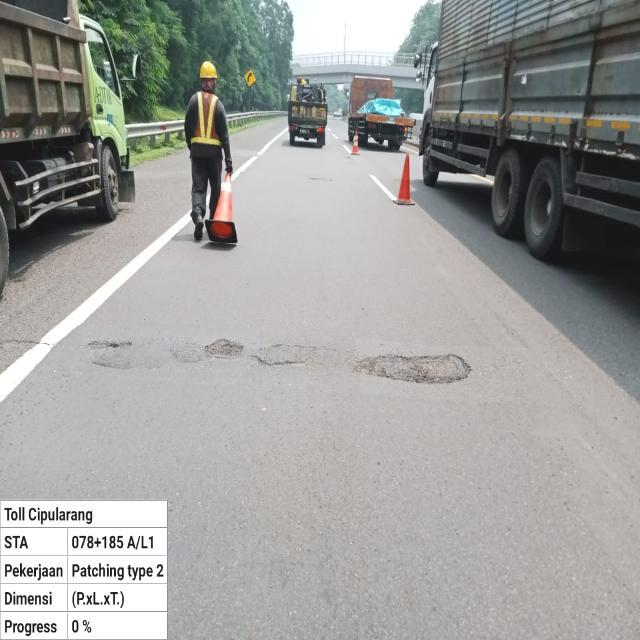Buraco: (351, 352, 475, 387), (202, 336, 246, 360), (86, 339, 134, 352)
